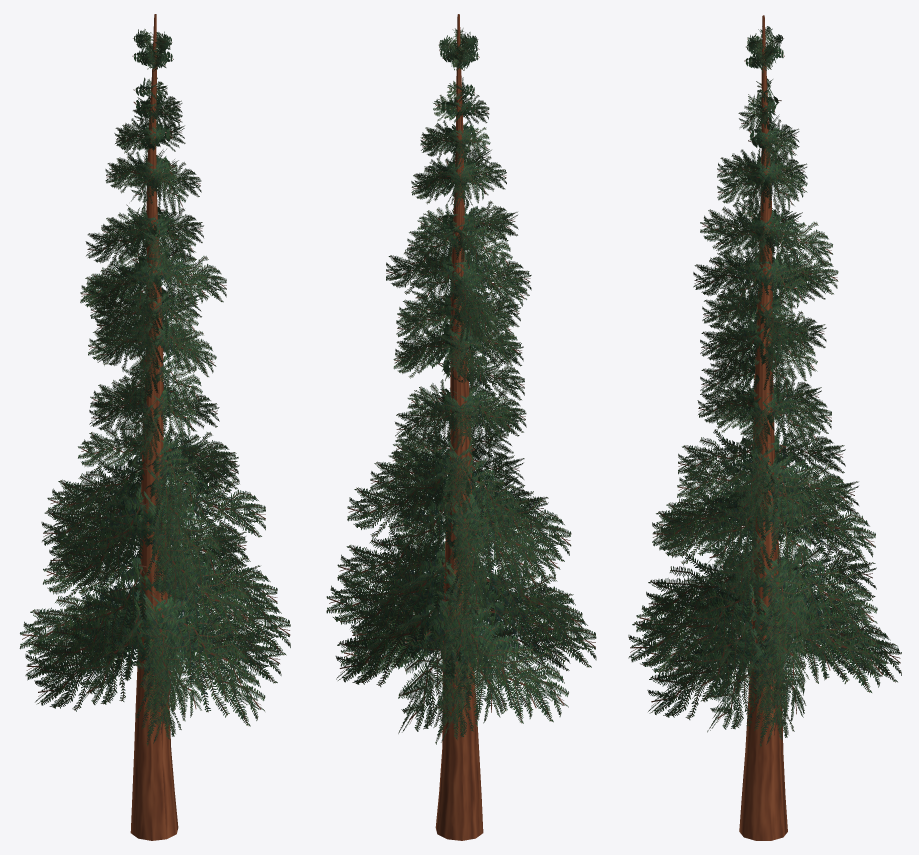
The model's file is veg_redwood_b_mobile.fbx.
3 views of the same model, side by side, from view 1: azimuth 30°, elevation 25°; view 2: azimuth 150°, elevation 25°; view 3: azimuth 270°, elevation 25° (orthographic).
Visible parts, largest first — view 1: veg_redwood_b_mobile_LOD0; view 2: veg_redwood_b_mobile_LOD0; view 3: veg_redwood_b_mobile_LOD0.
Part boxes in pixels (x1,y1,x2,y2): veg_redwood_b_mobile_LOD0: (19,14,290,840); veg_redwood_b_mobile_LOD0: (326,14,596,840); veg_redwood_b_mobile_LOD0: (628,15,901,840).
Size of what is drawn, in the model's own units: 7.64 by 25.42 by 7.88.
2 materials, 2 textured.
